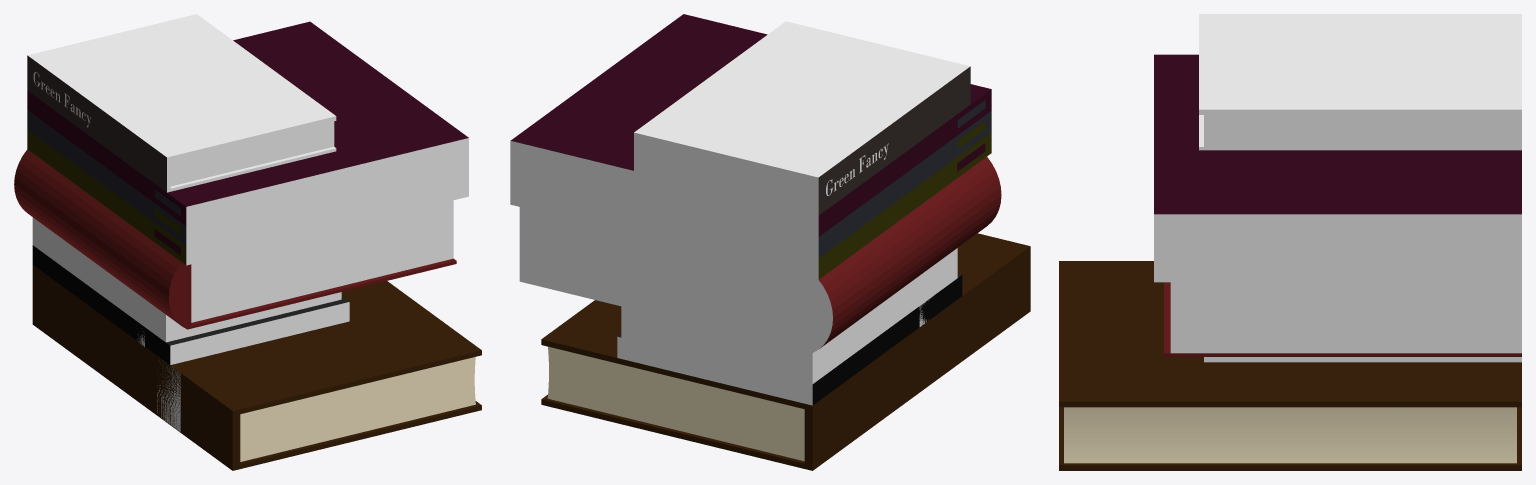
The picture shows the model from 3 angles, left to right: view 1: azimuth 30°, elevation 25°; view 2: azimuth 150°, elevation 25°; view 3: azimuth 270°, elevation 25°; orthographic projection. The views are drawn at different scales.
Visible parts, largest first — view 1: books; view 2: books; view 3: books.
Boxes of the visible parts, x1=… form: books: x1=14, y1=14, x2=481, y2=470; books: x1=510, y1=14, x2=1030, y2=470; books: x1=1059, y1=14, x2=1521, y2=470.
Size of the model in its own units: 9.36 by 8.17 by 10.94.
